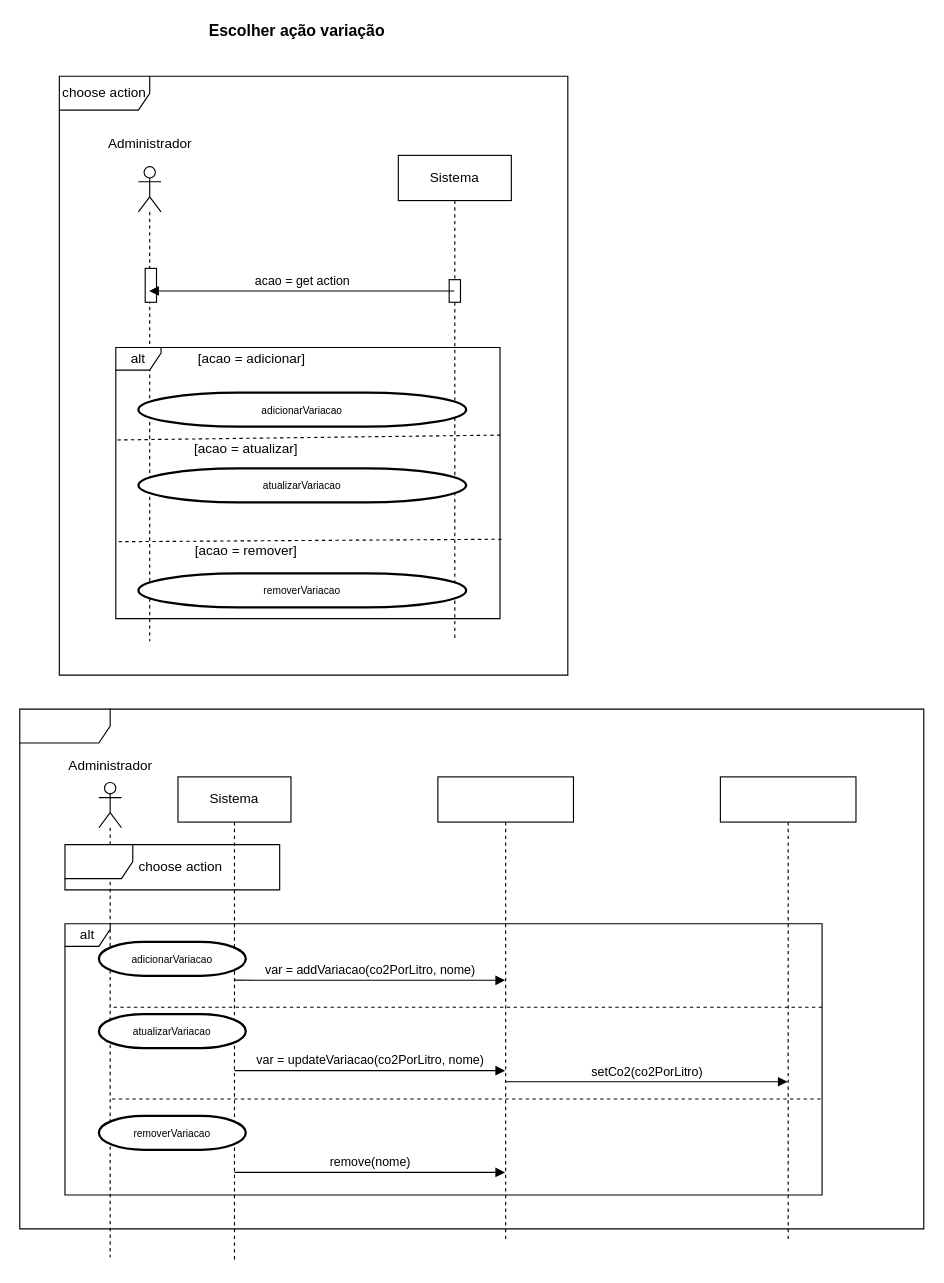
The diagram is 944 pixels wide and 1283 high, and some of its shapes have lost their labels. The shapes that lost their labels are listed below. From the top down, each one's box as (x1, y1, x2, y2) in pixels, then its label:
(64, 844, 280, 890): ref
(19, 708, 924, 1229): handle action
(437, 776, 573, 1240): comb:Combustível
(719, 776, 856, 1240): var:Variacao
